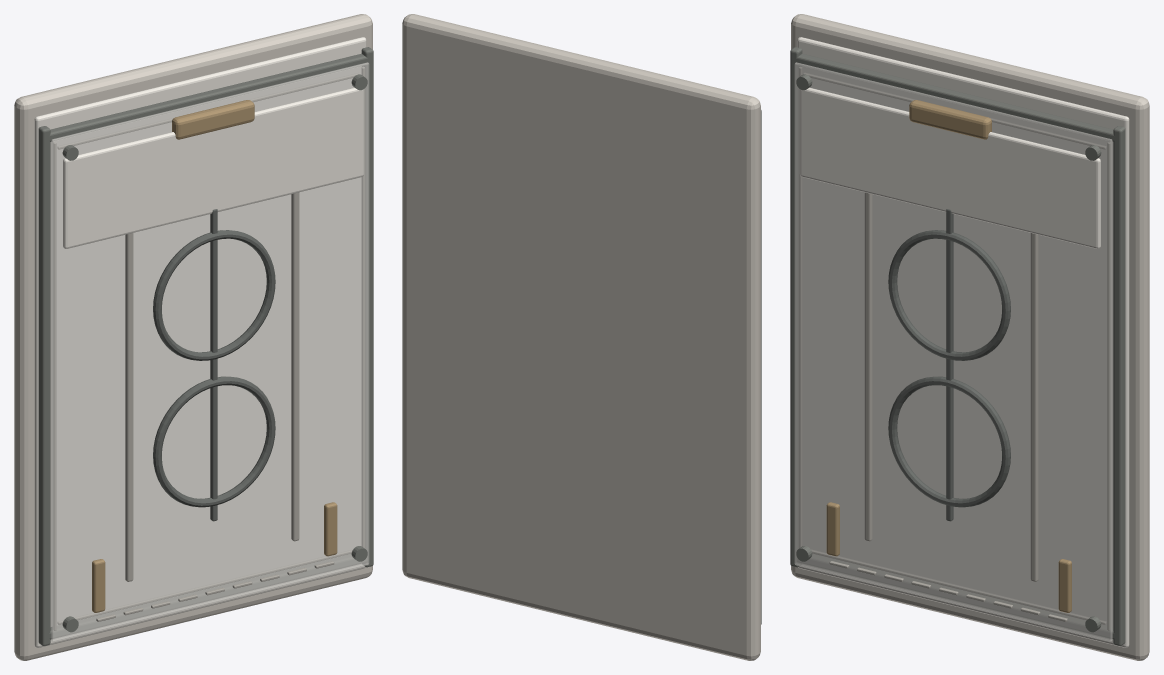
The model's file is jarvis-archive-v1.glb.
The picture shows the model from 3 angles, left to right: view 1: azimuth 30°, elevation 25°; view 2: azimuth 150°, elevation 25°; view 3: azimuth 330°, elevation 25°; orthographic projection.
Visible parts, largest first — view 1: Glass, Inset, LabelCarrier, Body, FrameSide, FrameSide.001, FrameTopBottom.001, RingBottom, RingTop, InnerRail, InnerRail.001, FrameTopBottom (+8 smaller); view 2: Body; view 3: Glass, Inset, LabelCarrier, Body, FrameSide.001, FrameSide, FrameTopBottom.001, RingBottom, RingTop, InnerRail, InnerRail.001, FrameTopBottom (+8 smaller).
Part boxes in pixels (box(x1,y1,x2,y2)): Glass: box(51, 62, 369, 641); Inset: box(34, 37, 366, 647); LabelCarrier: box(63, 87, 364, 248); Body: box(14, 14, 372, 660); FrameSide: box(38, 126, 50, 645); FrameSide.001: box(361, 47, 373, 567); FrameTopBottom.001: box(48, 53, 368, 141); RingBottom: box(153, 376, 275, 507); RingTop: box(153, 230, 275, 360); InnerRail: box(125, 233, 133, 581); InnerRail.001: box(291, 192, 299, 541); FrameTopBottom: box(49, 554, 367, 639); Body: box(402, 14, 760, 660); Glass: box(794, 62, 1112, 641); Inset: box(797, 37, 1129, 647); LabelCarrier: box(799, 87, 1100, 248); Body: box(791, 14, 1149, 660); FrameSide.001: box(1113, 126, 1125, 645); FrameSide: box(790, 47, 802, 567); FrameTopBottom.001: box(795, 53, 1115, 141); RingBottom: box(888, 376, 1010, 507); RingTop: box(888, 230, 1010, 360); InnerRail: box(864, 192, 872, 541); InnerRail.001: box(1030, 233, 1038, 581); FrameTopBottom: box(796, 554, 1114, 639).
Size of the model in its own units: 3.12 by 4.72 by 0.4325.
